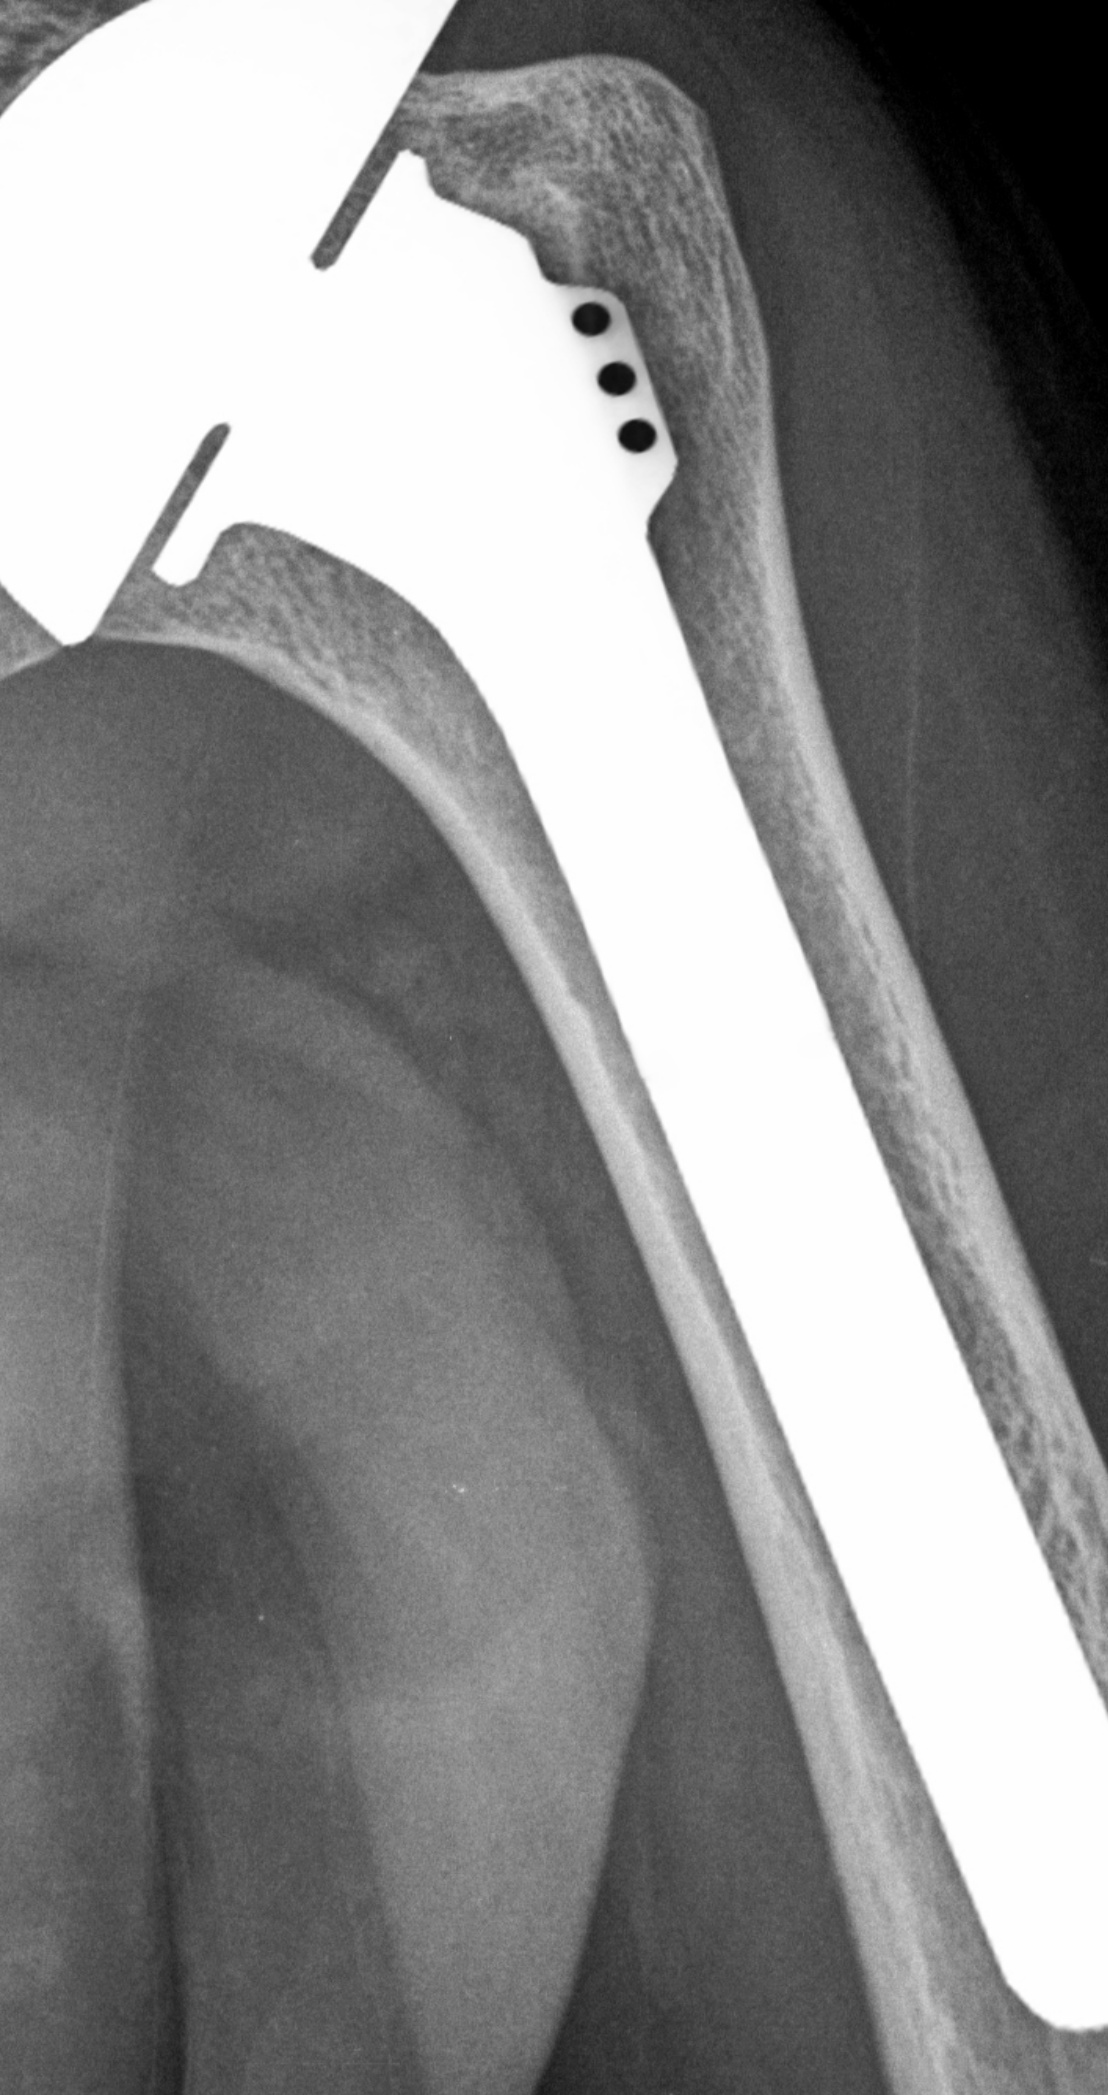Shoulder - Olympia - Wright: (1, 1, 692, 666)
